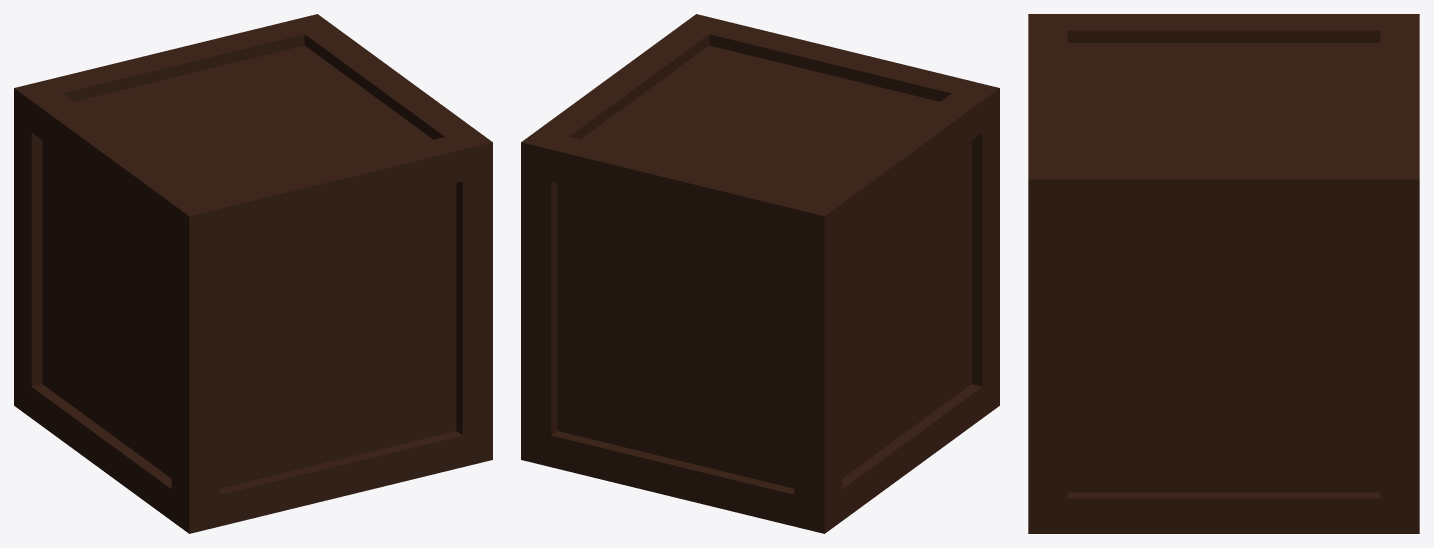
The picture shows the model from 3 angles, left to right: view 1: azimuth 30°, elevation 25°; view 2: azimuth 150°, elevation 25°; view 3: azimuth 270°, elevation 25°; orthographic projection. The views are drawn at different scales.
Parts seen in each view (by area): view 1: SM_Box2x2; view 2: SM_Box2x2; view 3: SM_Box2x2.
Part boxes in pixels (bbox=[...]): SM_Box2x2: bbox=[14, 14, 492, 533]; SM_Box2x2: bbox=[521, 14, 999, 533]; SM_Box2x2: bbox=[1028, 14, 1419, 533].
Size of the model in its own units: 200 by 200 by 200.
